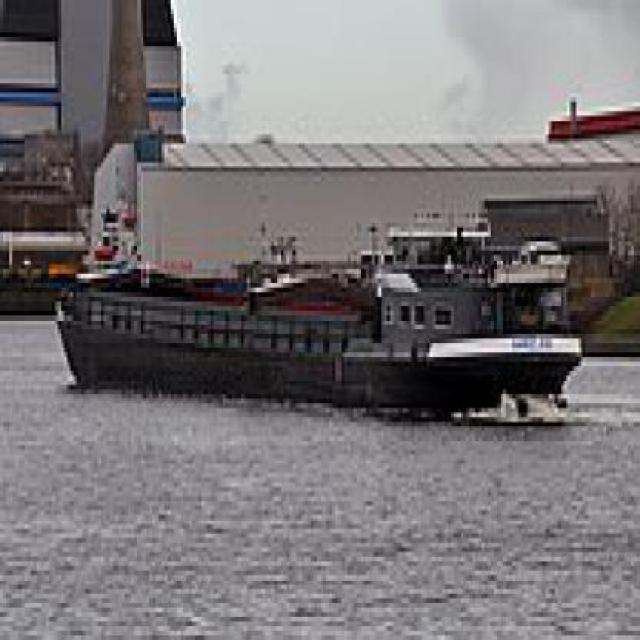container: (50, 214, 593, 442)
